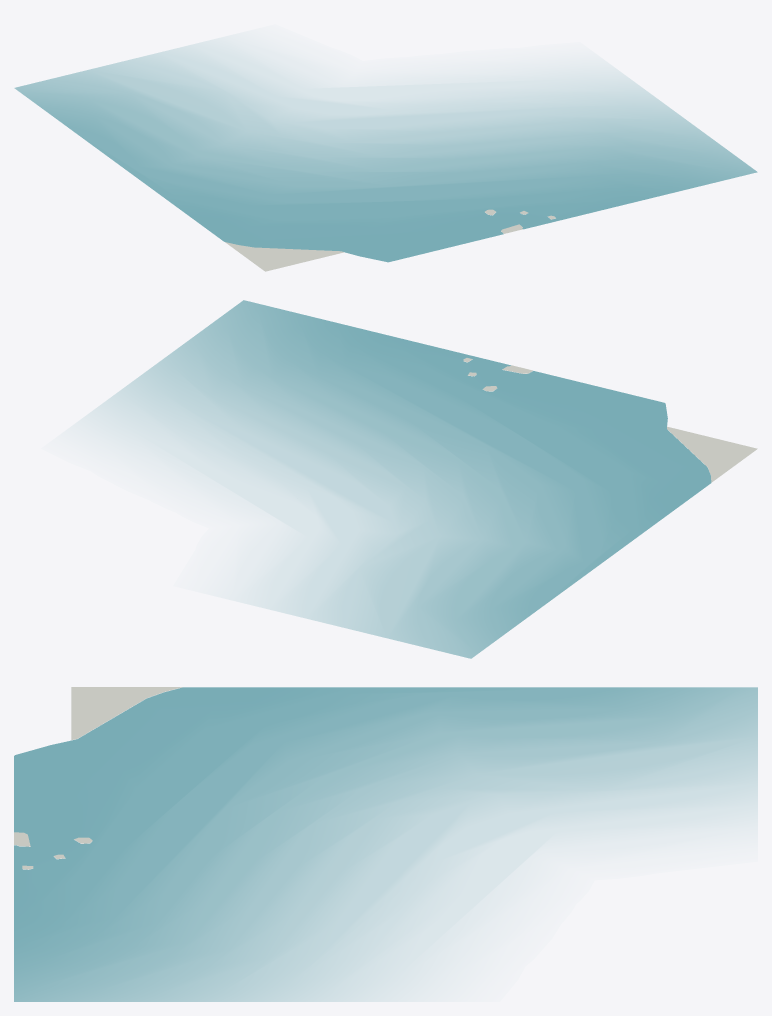
3 views of the same model, one above another, from view 1: azimuth 30°, elevation 25°; view 2: azimuth 150°, elevation 25°; view 3: azimuth 270°, elevation 25° (orthographic). The views are drawn at different scales.
Visible parts, largest first — view 1: city; view 2: city; view 3: city.
Boxes of the visible parts, <box> form: city: <box>14,39,757,271</box>; city: <box>83,300,757,658</box>; city: <box>14,687,757,1001</box>.
Bounding box in the file's own units: 500 × 0.18 × 500.
